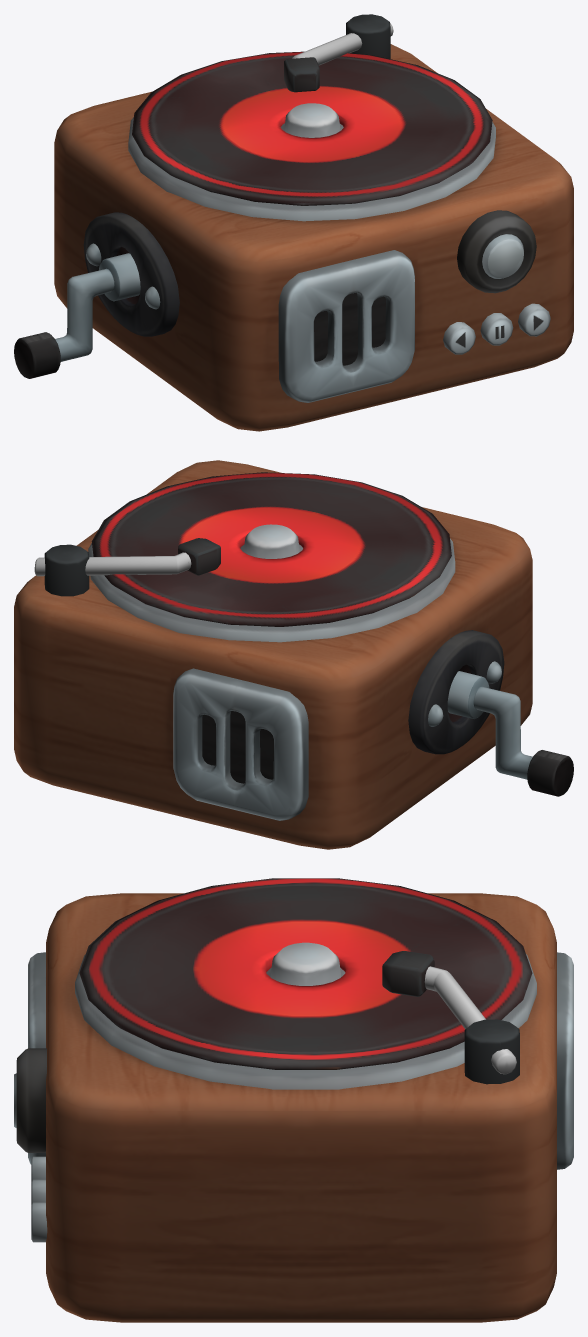
The model's file is ChangPianJi.FBX.
3 views of the same model, one above another, from view 1: azimuth 30°, elevation 25°; view 2: azimuth 150°, elevation 25°; view 3: azimuth 270°, elevation 25° (orthographic). The views are drawn at different scales.
Parts seen in each view (by area): view 1: ChangPianJi; view 2: ChangPianJi; view 3: ChangPianJi.
Part boxes in pixels (x1=…): ChangPianJi: x1=14, y1=14, x2=573, y2=431; ChangPianJi: x1=14, y1=460, x2=573, y2=849; ChangPianJi: x1=14, y1=878, x2=573, y2=1322.
Size of the model in its own units: 1577 by 756 by 1309.
Materials: 1 (1 with a texture image).
